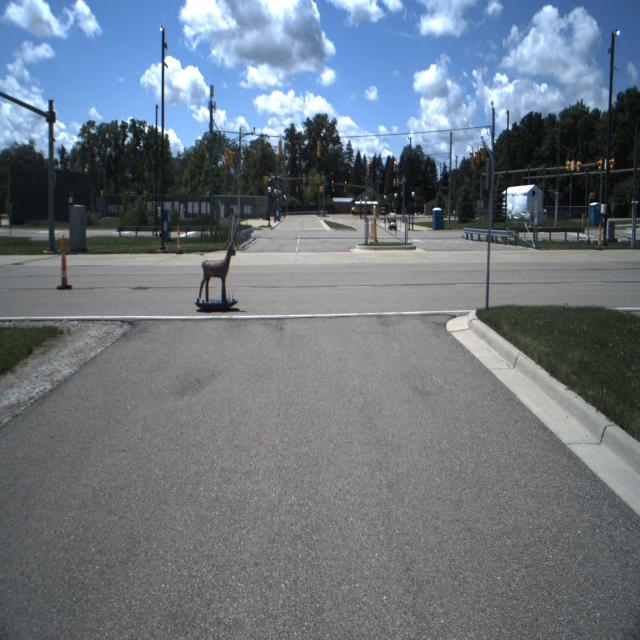Deer: (197, 240, 237, 300)
